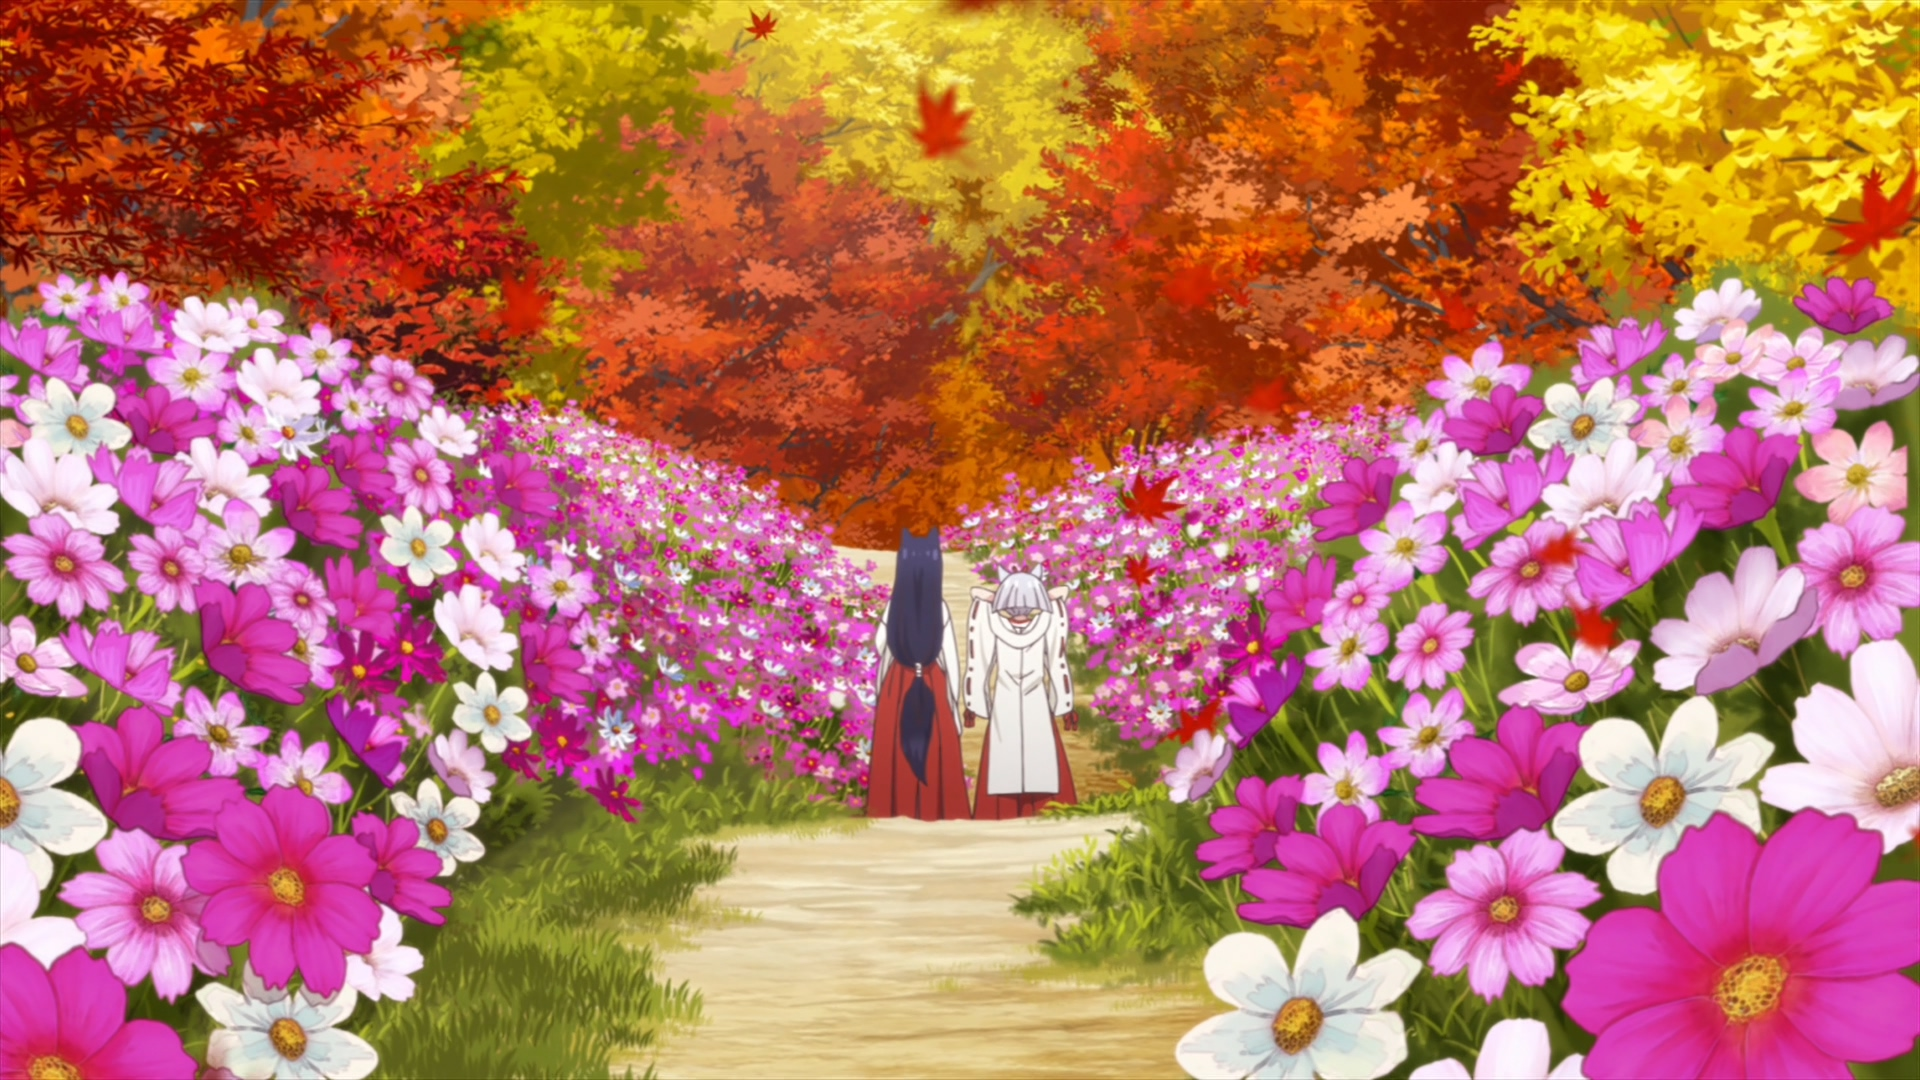柊: (965, 567, 1076, 820)
菖: (864, 527, 971, 819)
